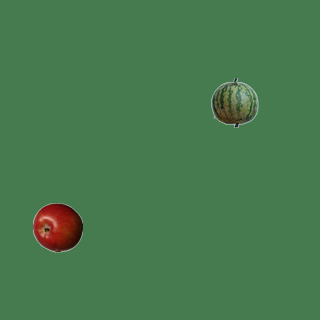Apple Braeburn: (32, 202, 82, 252)
Watermelon: (209, 77, 259, 127)
